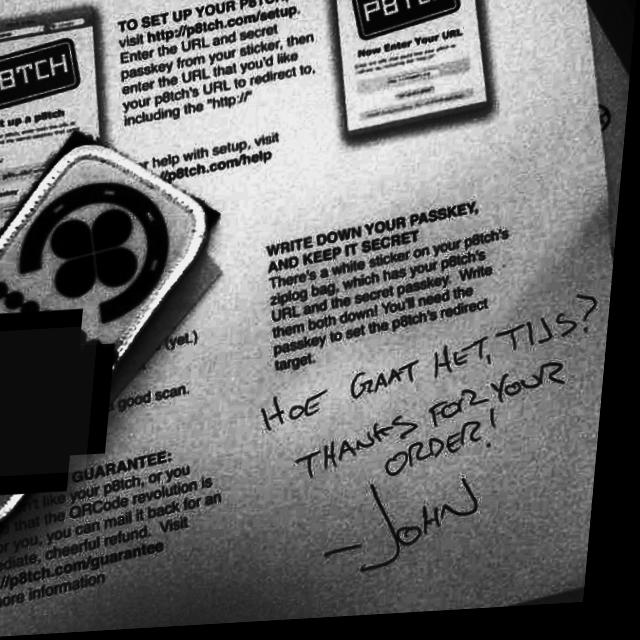qr_code: (0, 327, 105, 479)
